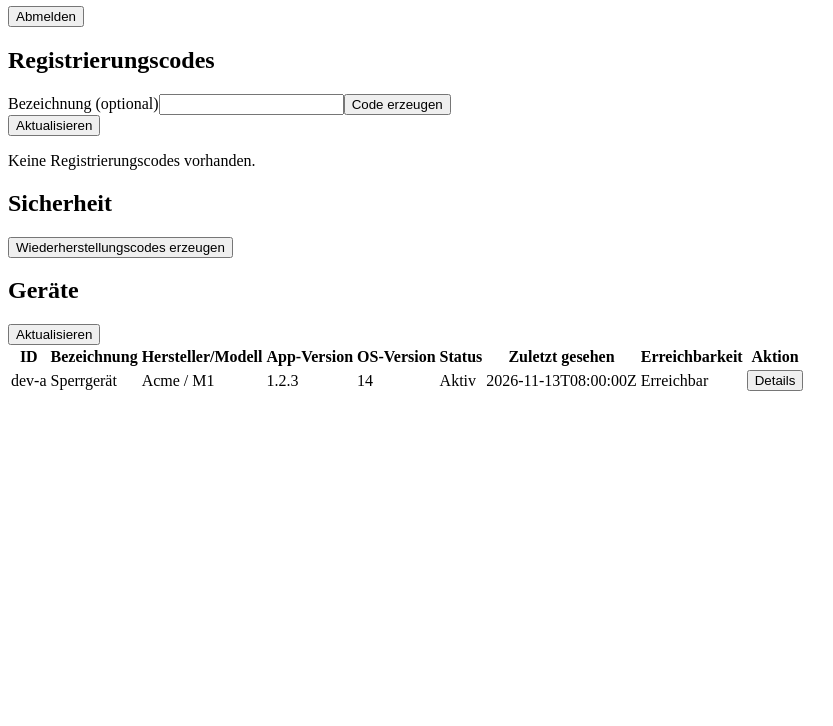
Test: DevicesPanel › sendet nach Bestätigung genau einen POST und lädt erst nach 204 neu; Fehler erzeugen keinen zweiten POST
This screenshot has width=833, height=726.
Later steps or results of the test are not shown.
Step 1. Click the button with aria-label "Details zu dev-a" → (775,381), box [747,370,804,391]
(page scrolled)
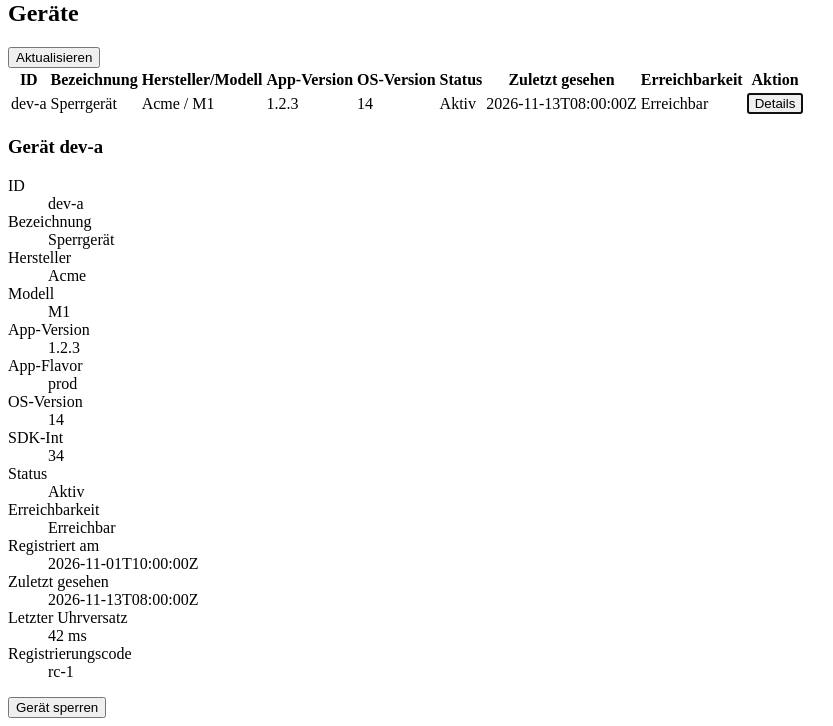
Check: the text "42 ms" is shown, box [48,627,87,644]
Step 2. Click the button "Gerät sperren" → (57,707), box [8,697,106,718]
(page scrolled)
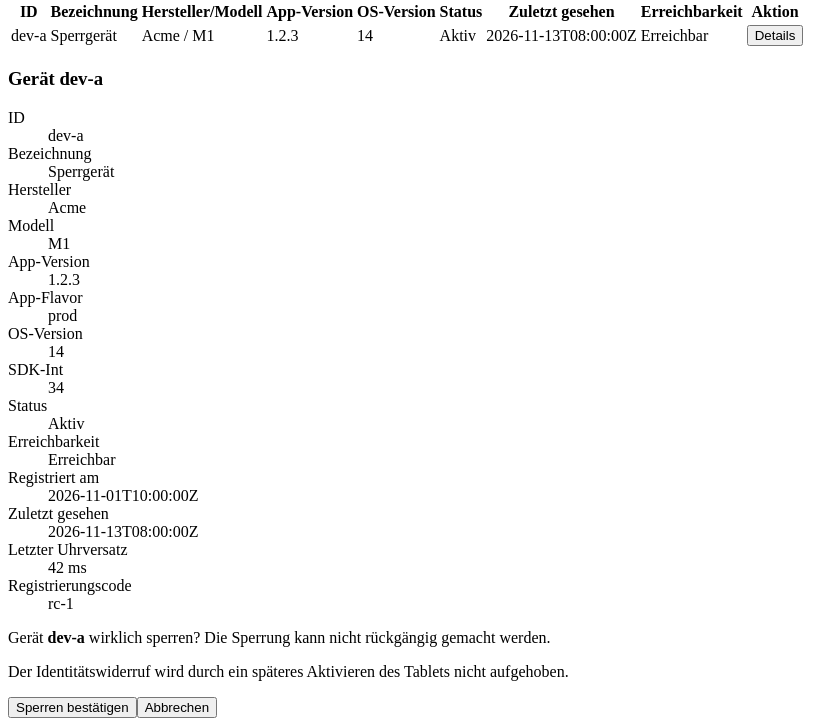
Check: the element named "Sperrbestätigung" shows "dev-a", box [48,629,85,646]
Step 3. Click the button "Abbrechen" → (177,707), box [137,697,217,718]
(page scrolled)
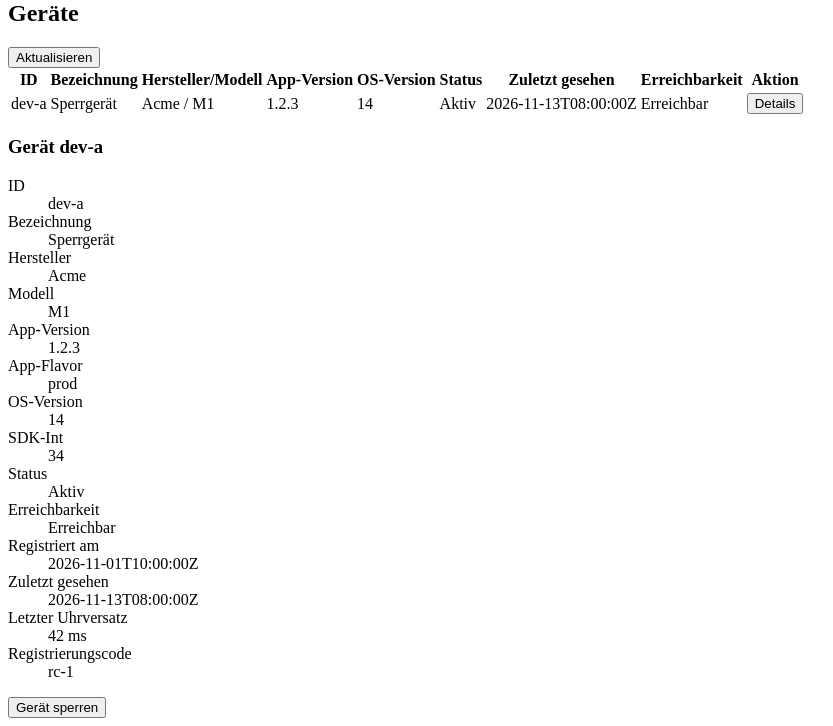
Step 4. Click the button "Gerät sperren" → (57,707), box [8,697,106,718]
(page scrolled)
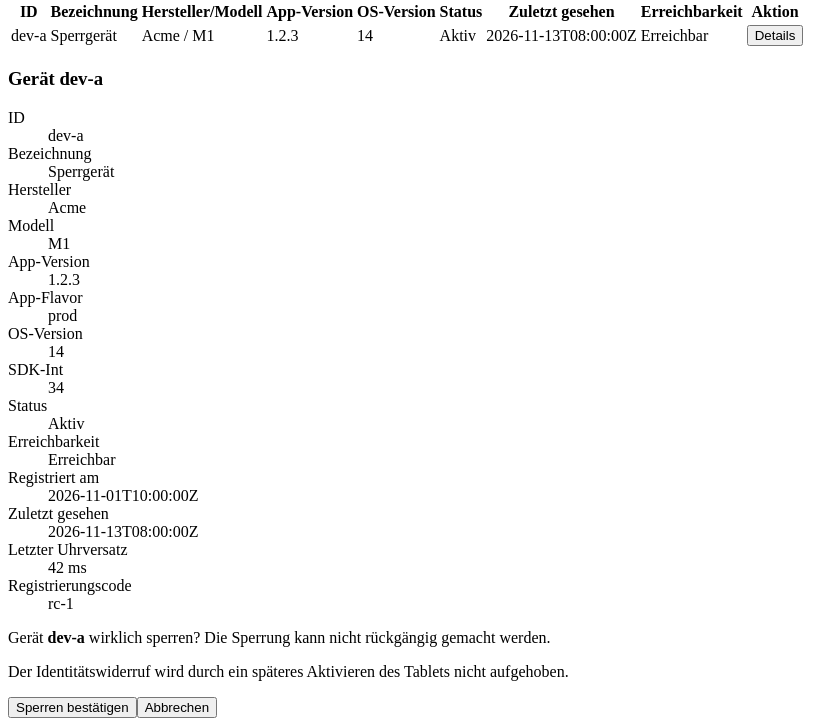
Step 5. Click the button "Sperren bestätigen" → (72,707), box [8,697,137,718]
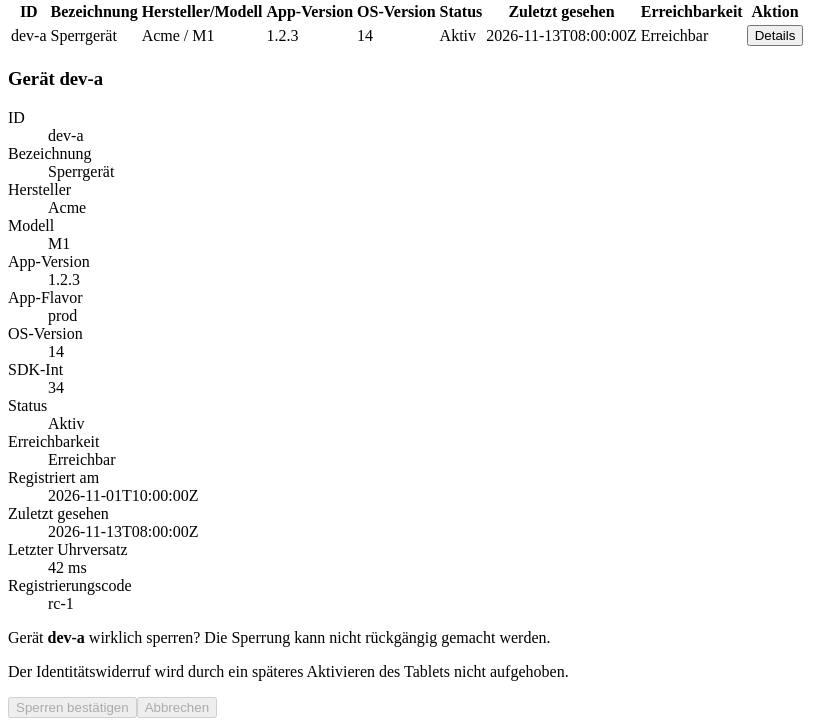
Step 6. Click the button "Sperren bestätigen" → (72,707), box [8,697,137,718]
(page scrolled)
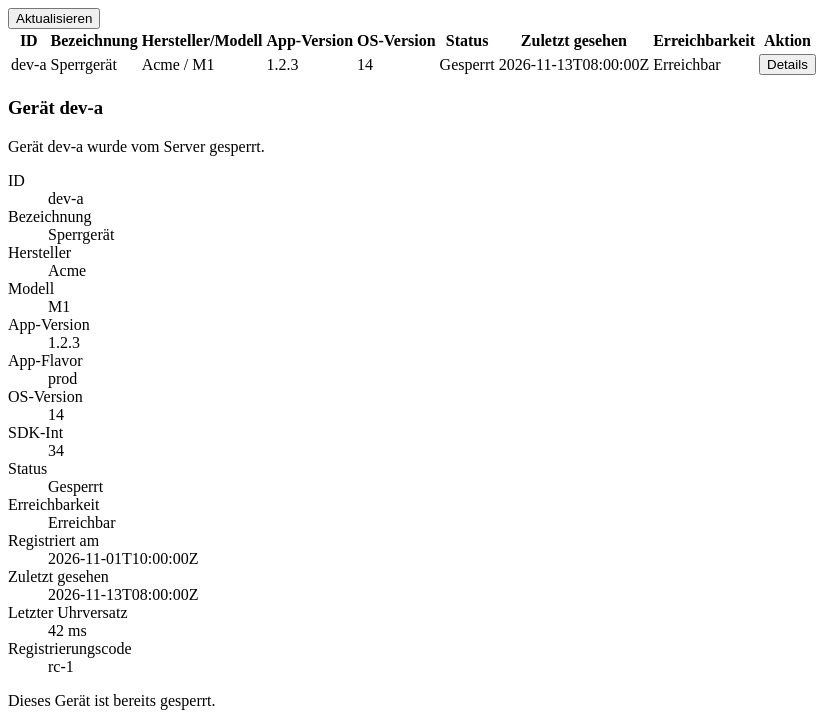
Check: the button "Gerät sperren" is not shown
Check: the text "Gerät dev-a wurde vom Server gesperrt." is shown, box [8,138,265,155]
Check: the text "Gesperrt" is shown, box [439,53,496,76]
